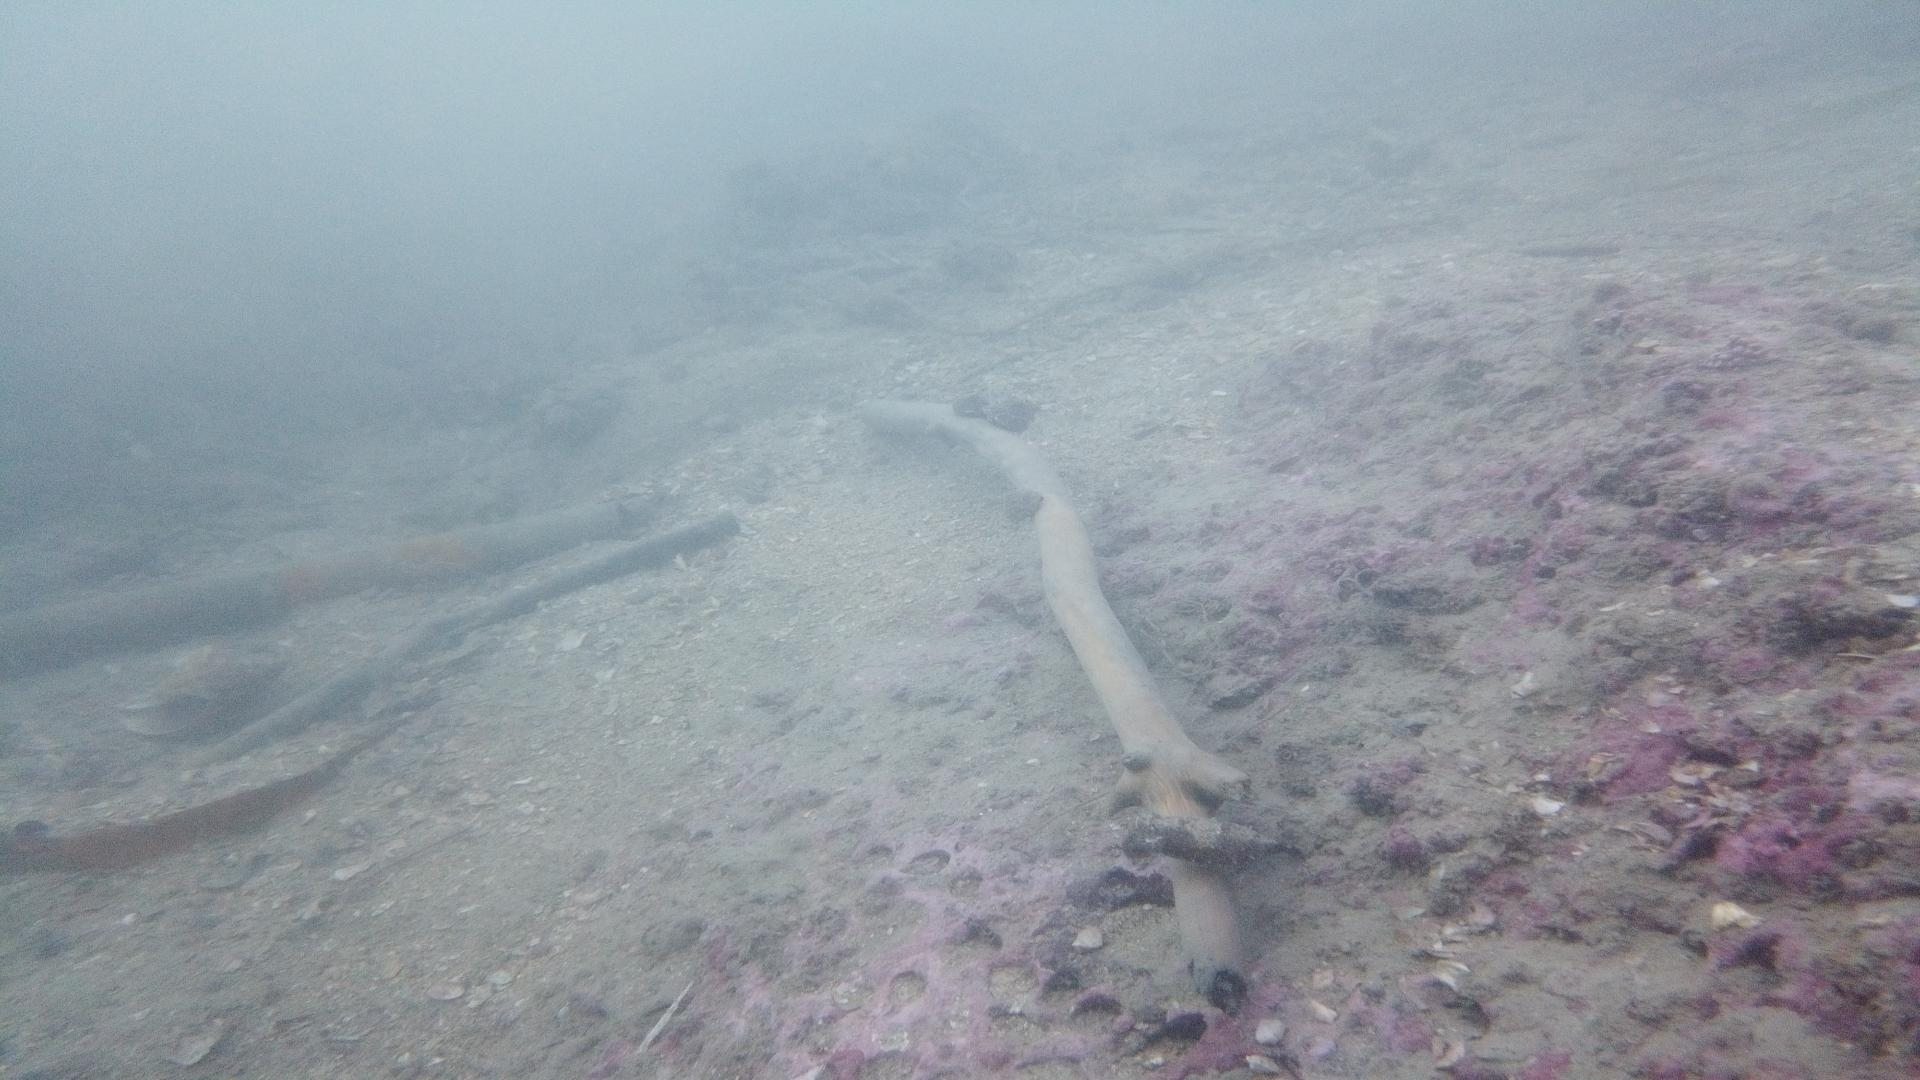wood: (858, 396, 1250, 1018)
